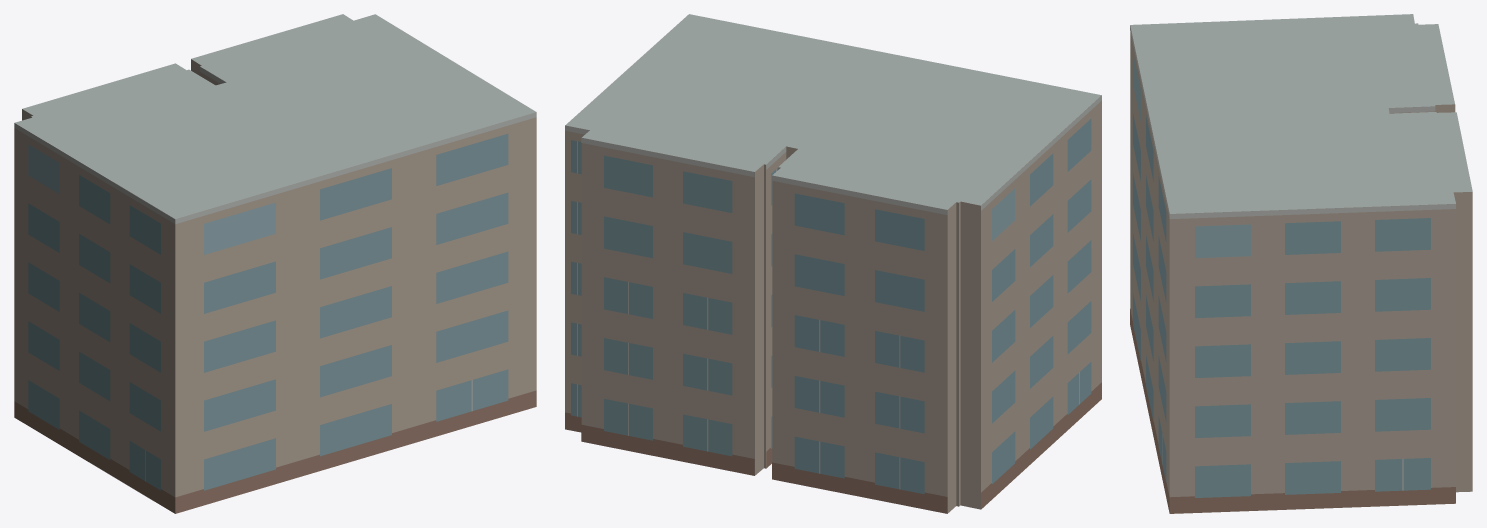
The model's file is survey-upis-32737528.glb.
3 renders of one model, left to right at view 1: azimuth 30°, elevation 25°; view 2: azimuth 150°, elevation 25°; view 3: azimuth 270°, elevation 25°, orthographic. The views are drawn at different scales.
Visible parts, largest first — view 1: survey-upis-32737528.tmp; view 2: survey-upis-32737528.tmp; view 3: survey-upis-32737528.tmp.
Part boxes in pixels (x1=…): survey-upis-32737528.tmp: x1=14, y1=14, x2=536, y2=513; survey-upis-32737528.tmp: x1=565, y1=14, x2=1101, y2=513; survey-upis-32737528.tmp: x1=1130, y1=14, x2=1472, y2=513.
Bounding box in the file's own units: 20.32 × 14.2 × 14.71.
